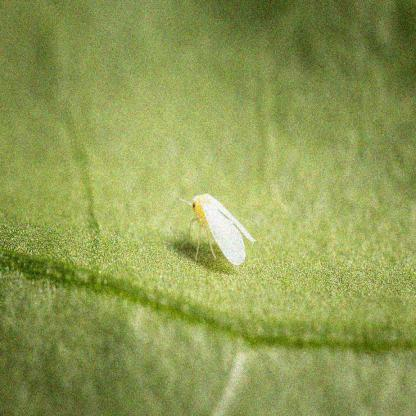whitefly: (192, 191, 251, 267)
